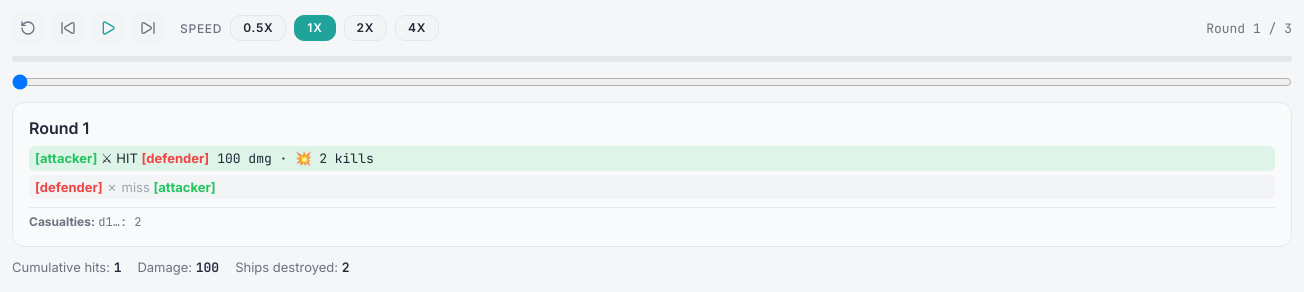
Test: BattlePlayback › step-back/step-forward buttons move the index without auto-playing
This screenshot has width=1304, height=292.
Click the button named "step forward" at (148, 28), box [132,12,164,44]
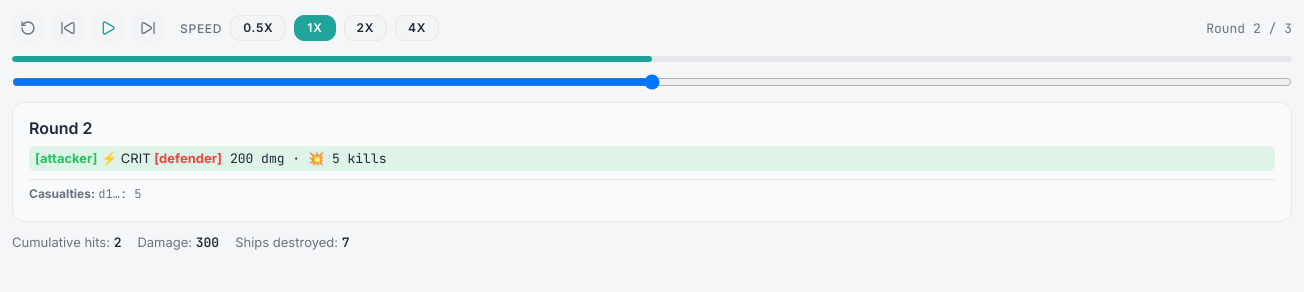
Check: the text "Round 2 / 3" is shown, box [1206,20,1292,36]
Click the button named "step back" at (68, 28), box [52,12,84,44]
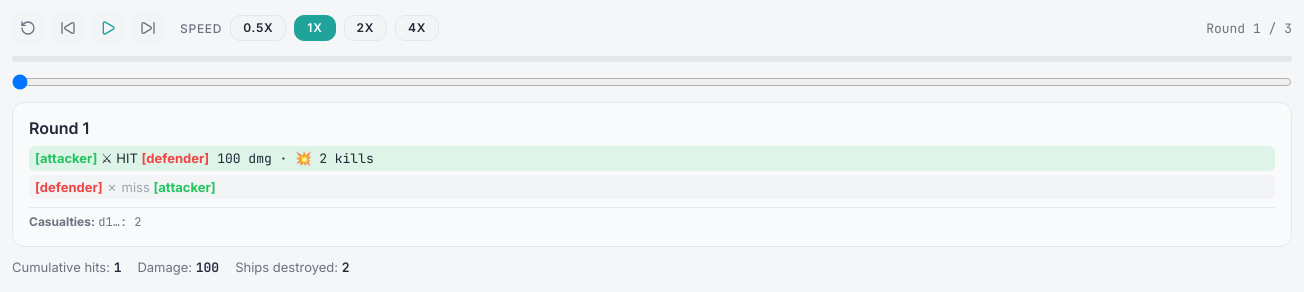
Check: the text "Round 1 / 3" is shown, box [1206,20,1292,36]
